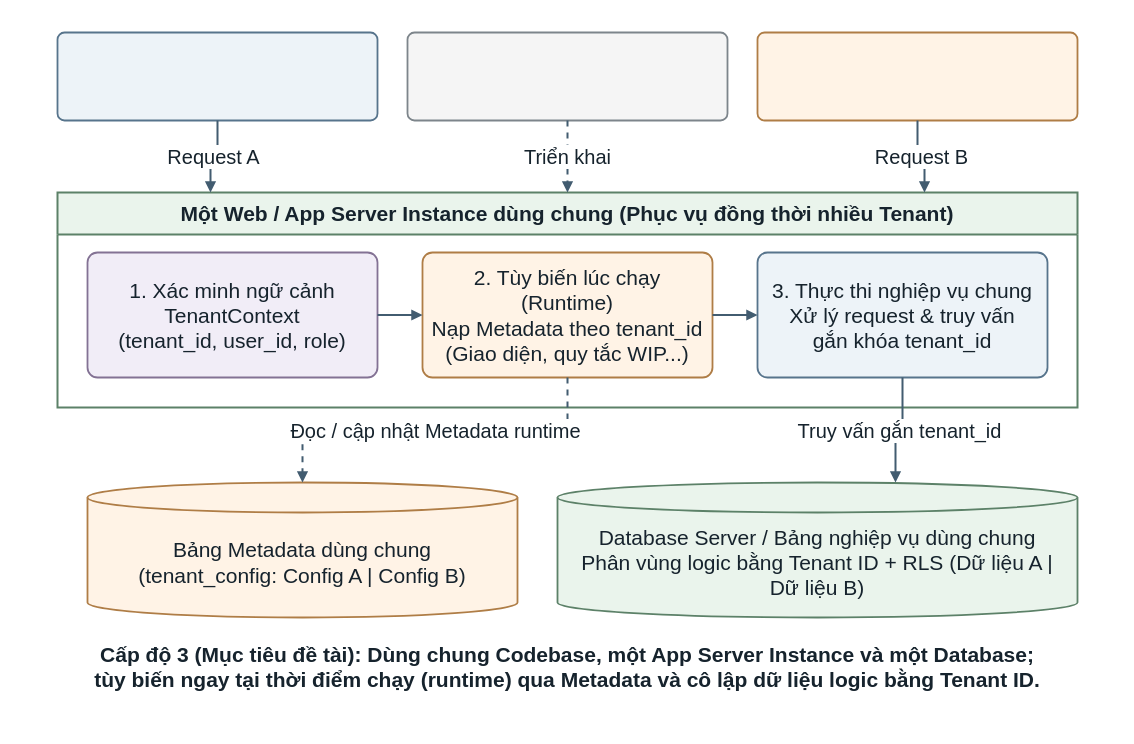
This 1134x744 diagram has some shape labels left out. The centre of each missing label's shape, as x and y in pixels:
Một Codebase chuẩn duy nhất (Single Codebase): the point at 567,76
Tenant A (Tổ chức A) Admin A, User A1, A2: the point at 217,76
Tenant B (Tổ chức B) Admin B, User B1, B2: the point at 917,76
